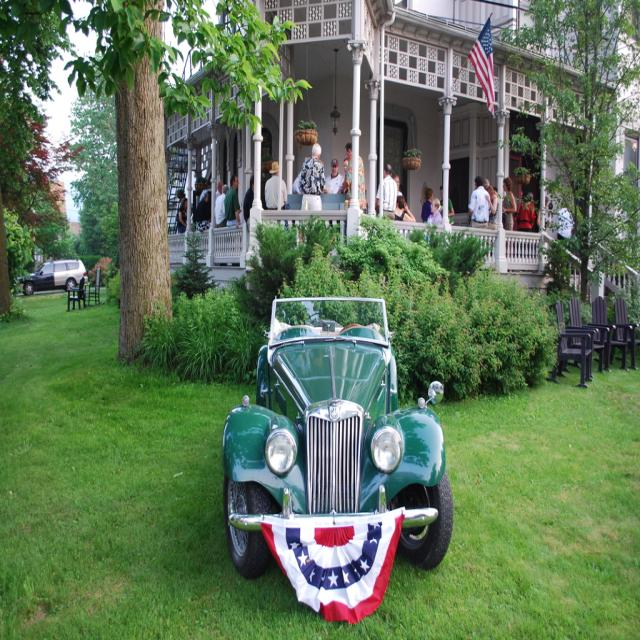car: (222, 292, 452, 573)
